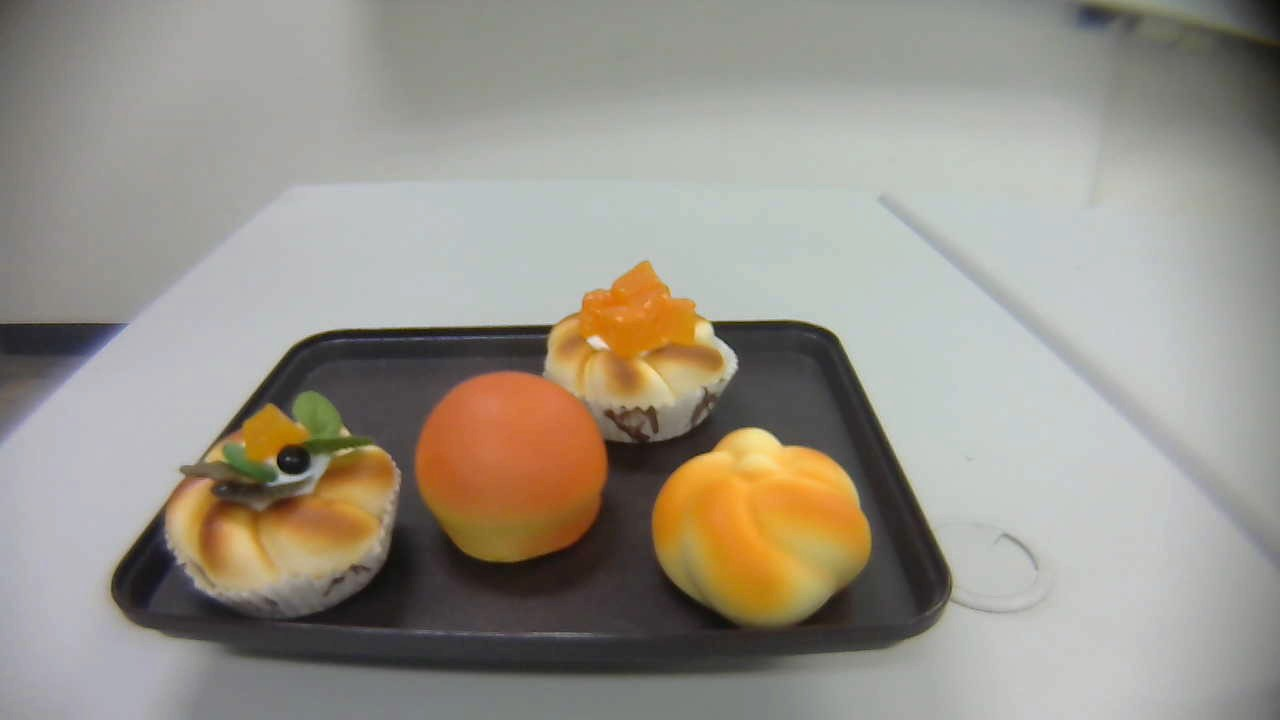bun: (413, 369, 608, 562)
fruit tart: (163, 388, 401, 616)
mango tart: (545, 260, 739, 443)
twist bread: (652, 427, 873, 629)
